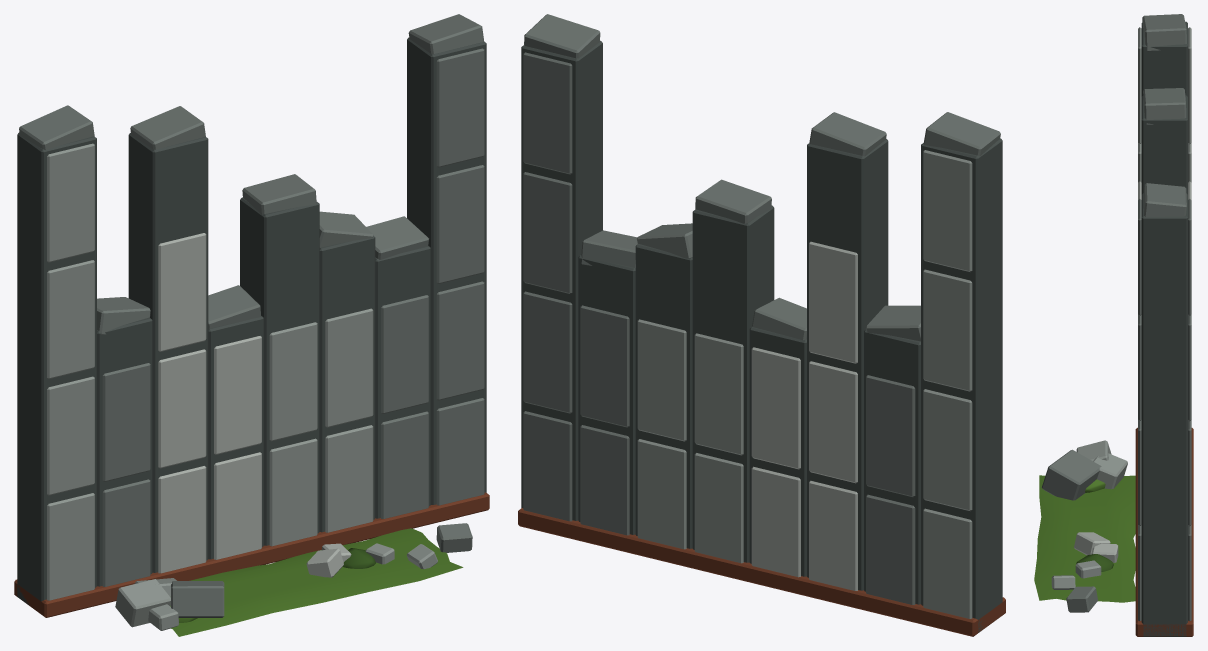
File: RUIN_WALL_Broken_4x4.glb
The picture shows the model from 3 angles, left to right: view 1: azimuth 30°, elevation 25°; view 2: azimuth 150°, elevation 25°; view 3: azimuth 270°, elevation 25°; orthographic projection. The views are drawn at different scales.
Visible parts, largest first — view 1: RUIN_WALL_Broken_4x4; view 2: RUIN_WALL_Broken_4x4; view 3: RUIN_WALL_Broken_4x4.
Boxes of the visible parts, bbox=[...] form: RUIN_WALL_Broken_4x4: bbox=[14, 14, 489, 636]; RUIN_WALL_Broken_4x4: bbox=[518, 14, 1005, 636]; RUIN_WALL_Broken_4x4: bbox=[1034, 14, 1193, 636].
Bounding box in the file's own units: 4.01 × 4.22 × 1.38.
